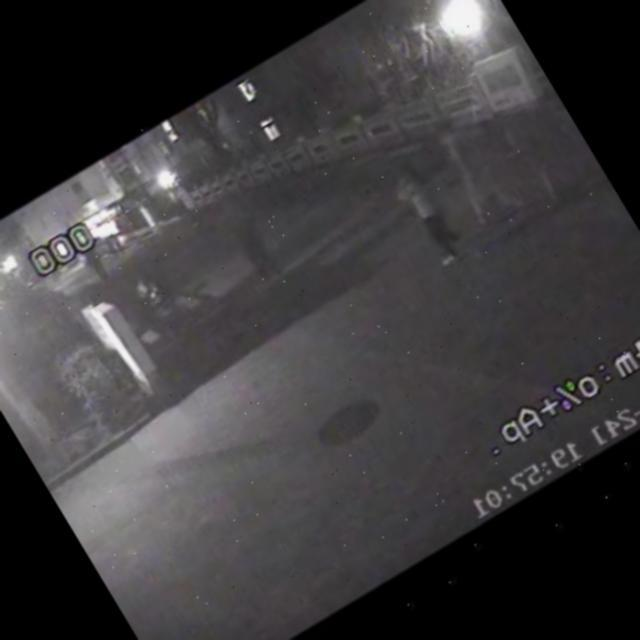person: (422, 104, 530, 238), (382, 151, 482, 277), (216, 204, 296, 296), (78, 247, 124, 300)
